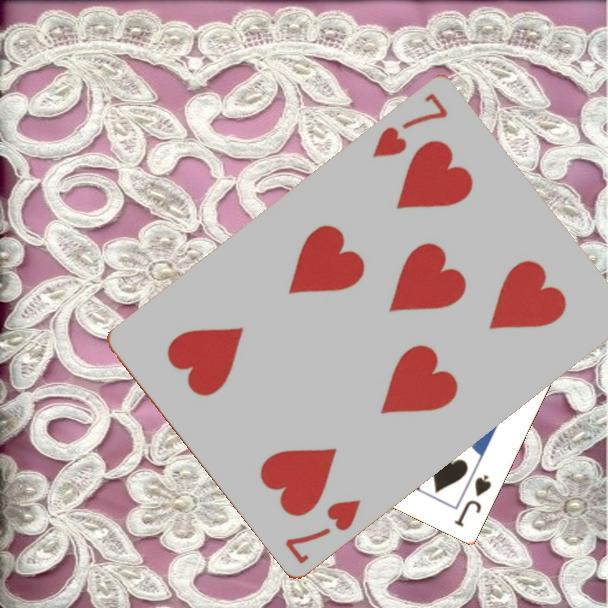h07: (281, 494, 364, 567), (368, 88, 451, 160)
s11: (450, 471, 494, 529)
